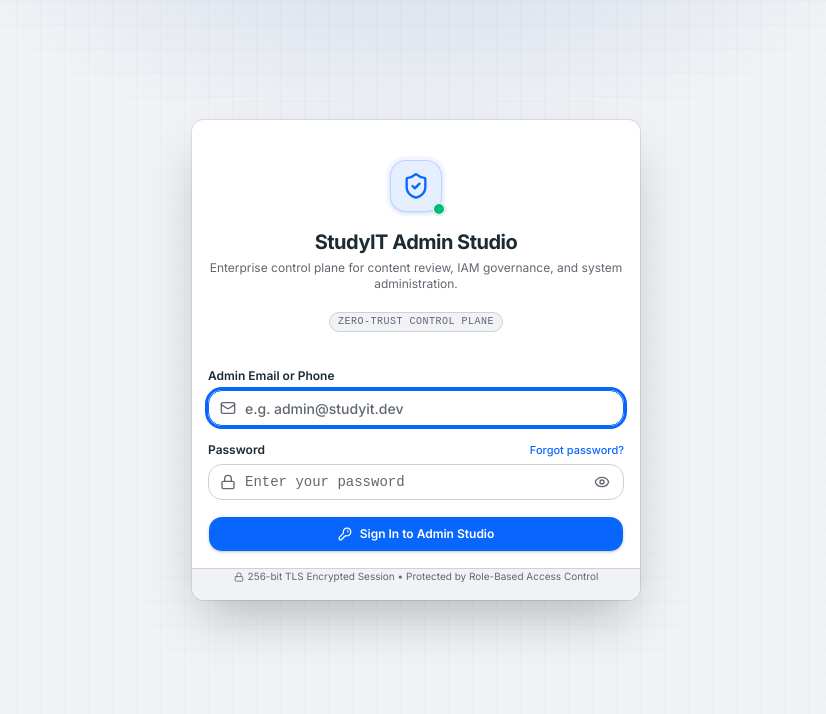
Test: AdminLoginPage Component Suite › denies login and shows error if user does not have admin role
Type "student@example.com" into the field labelled "Admin Email or Phone".
click(416, 408); type("student@example.com")  # box [208, 390, 624, 426]
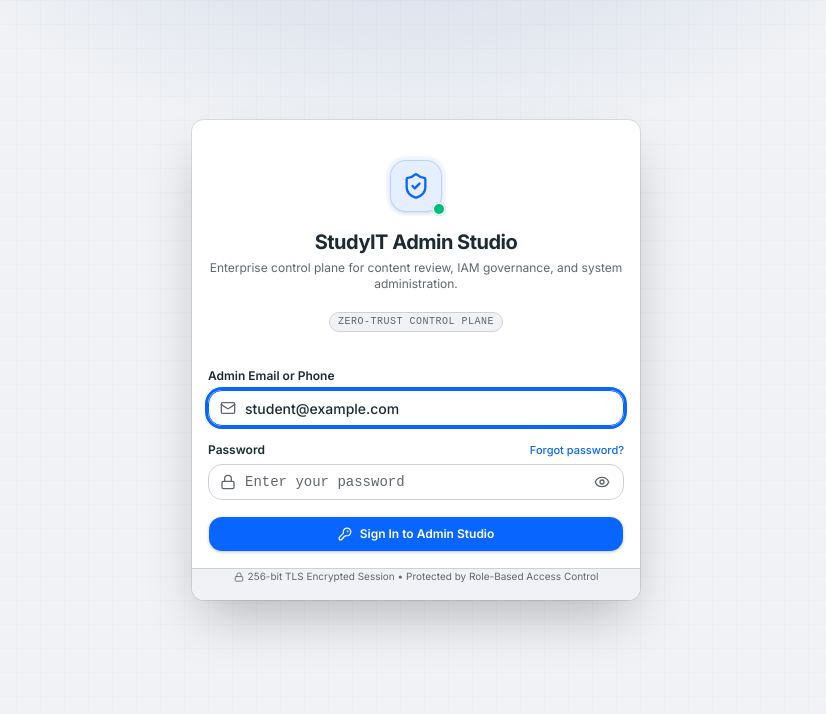
Type "password123" into the password field labelled "Password".
click(416, 482); type("password123")  # box [208, 464, 624, 500]
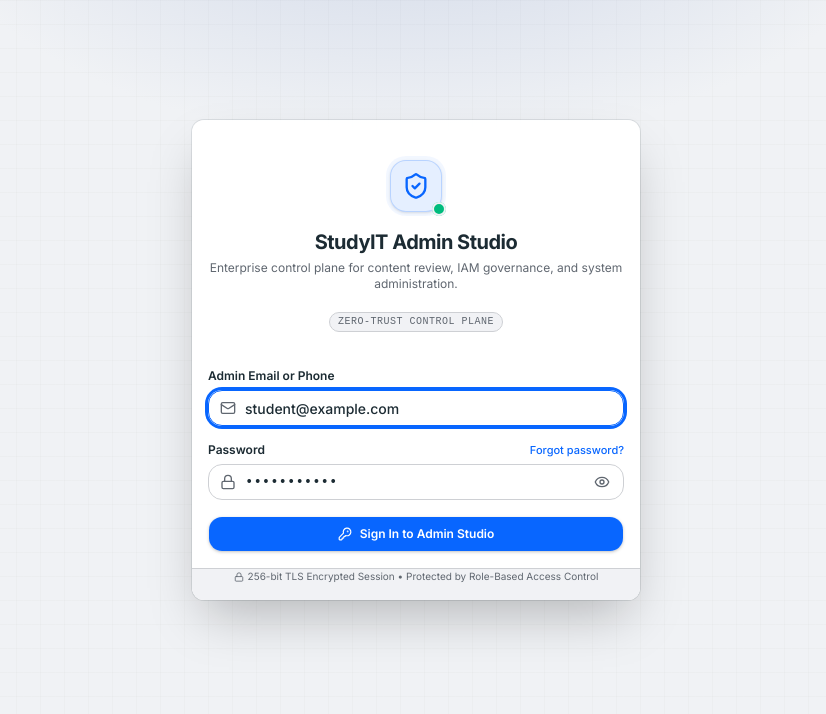
Click the button "Sign In to Admin Studio".
click(416, 534)  # box [208, 516, 624, 552]
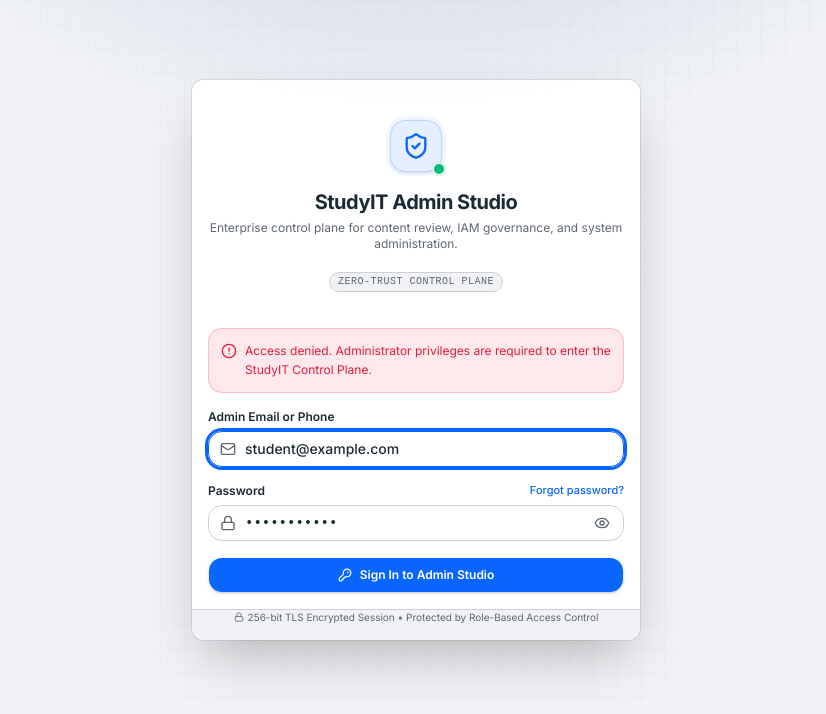
Expected: the message shows "Access denied", [245, 343, 611, 377]
